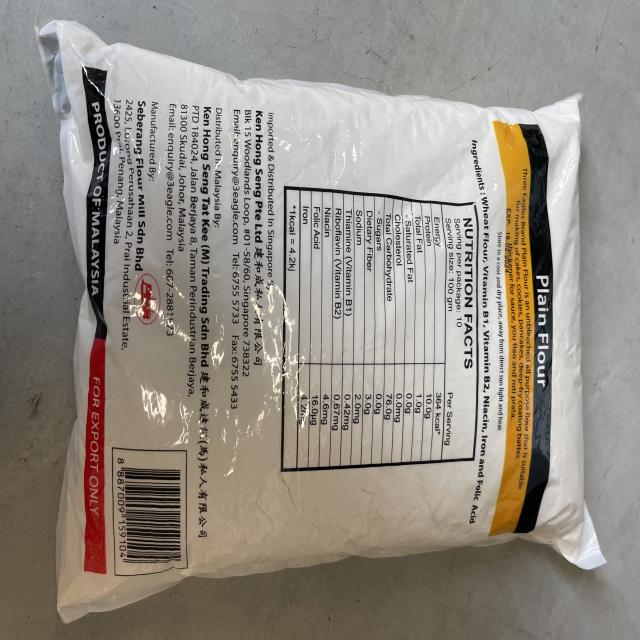object_name: (58, 44, 586, 568)
